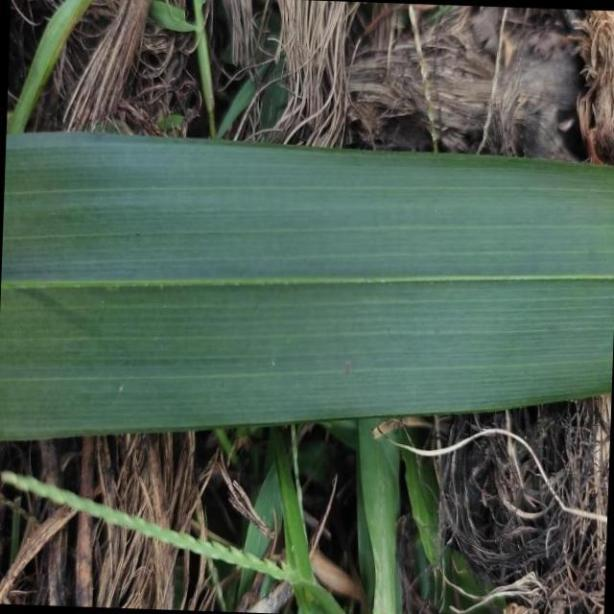Healthy: (0, 130, 614, 444)
